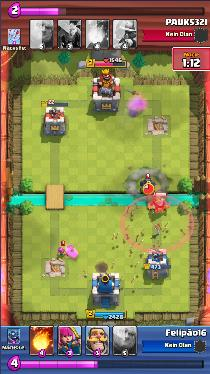ally_arrow: (121, 194, 194, 253)
enemy_archer: (56, 247, 67, 256)
enemy_knight: (151, 196, 169, 213)
enemy_mini_pekka: (141, 178, 154, 191)
